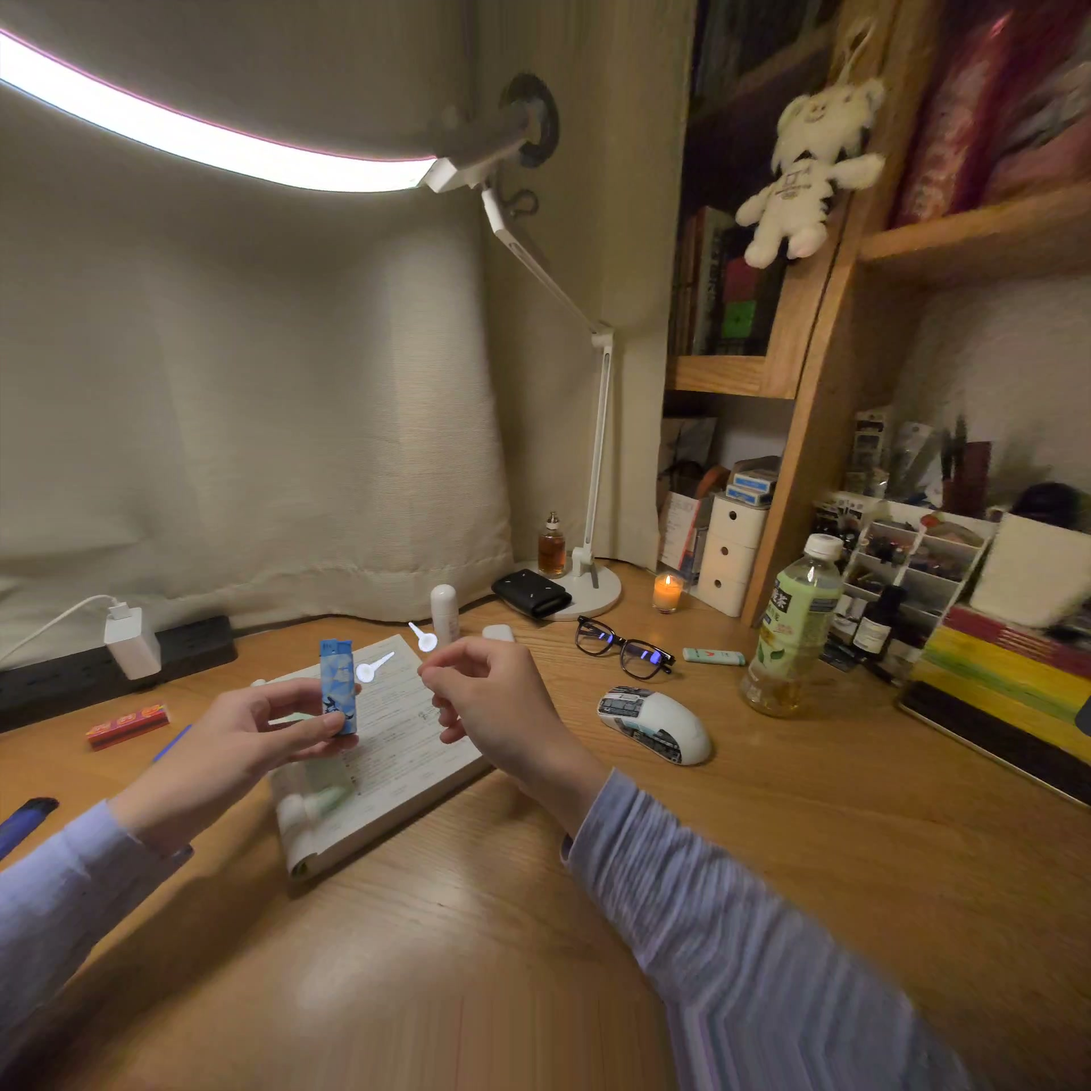lighter: (319, 640, 356, 734)
